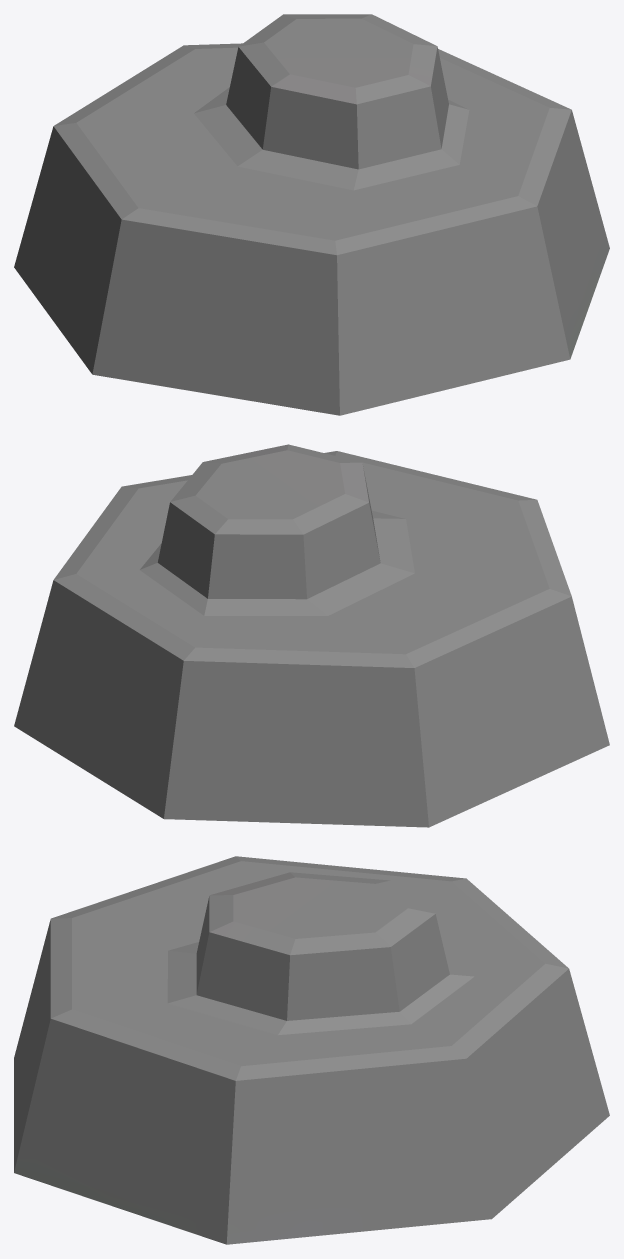
The model's file is Pierre.fbx.
3 views of the same model, one above another, from view 1: azimuth 30°, elevation 25°; view 2: azimuth 150°, elevation 25°; view 3: azimuth 270°, elevation 25° (orthographic). The views are drawn at different scales.
Parts seen in each view (by area): view 1: Pierre; view 2: Pierre; view 3: Pierre.
Part boxes in pixels (x1,y1,x2,y2): Pierre: (14, 14, 609, 415); Pierre: (14, 444, 609, 827); Pierre: (14, 856, 609, 1244).
Size of the model in its own units: 337 by 136 by 328.
